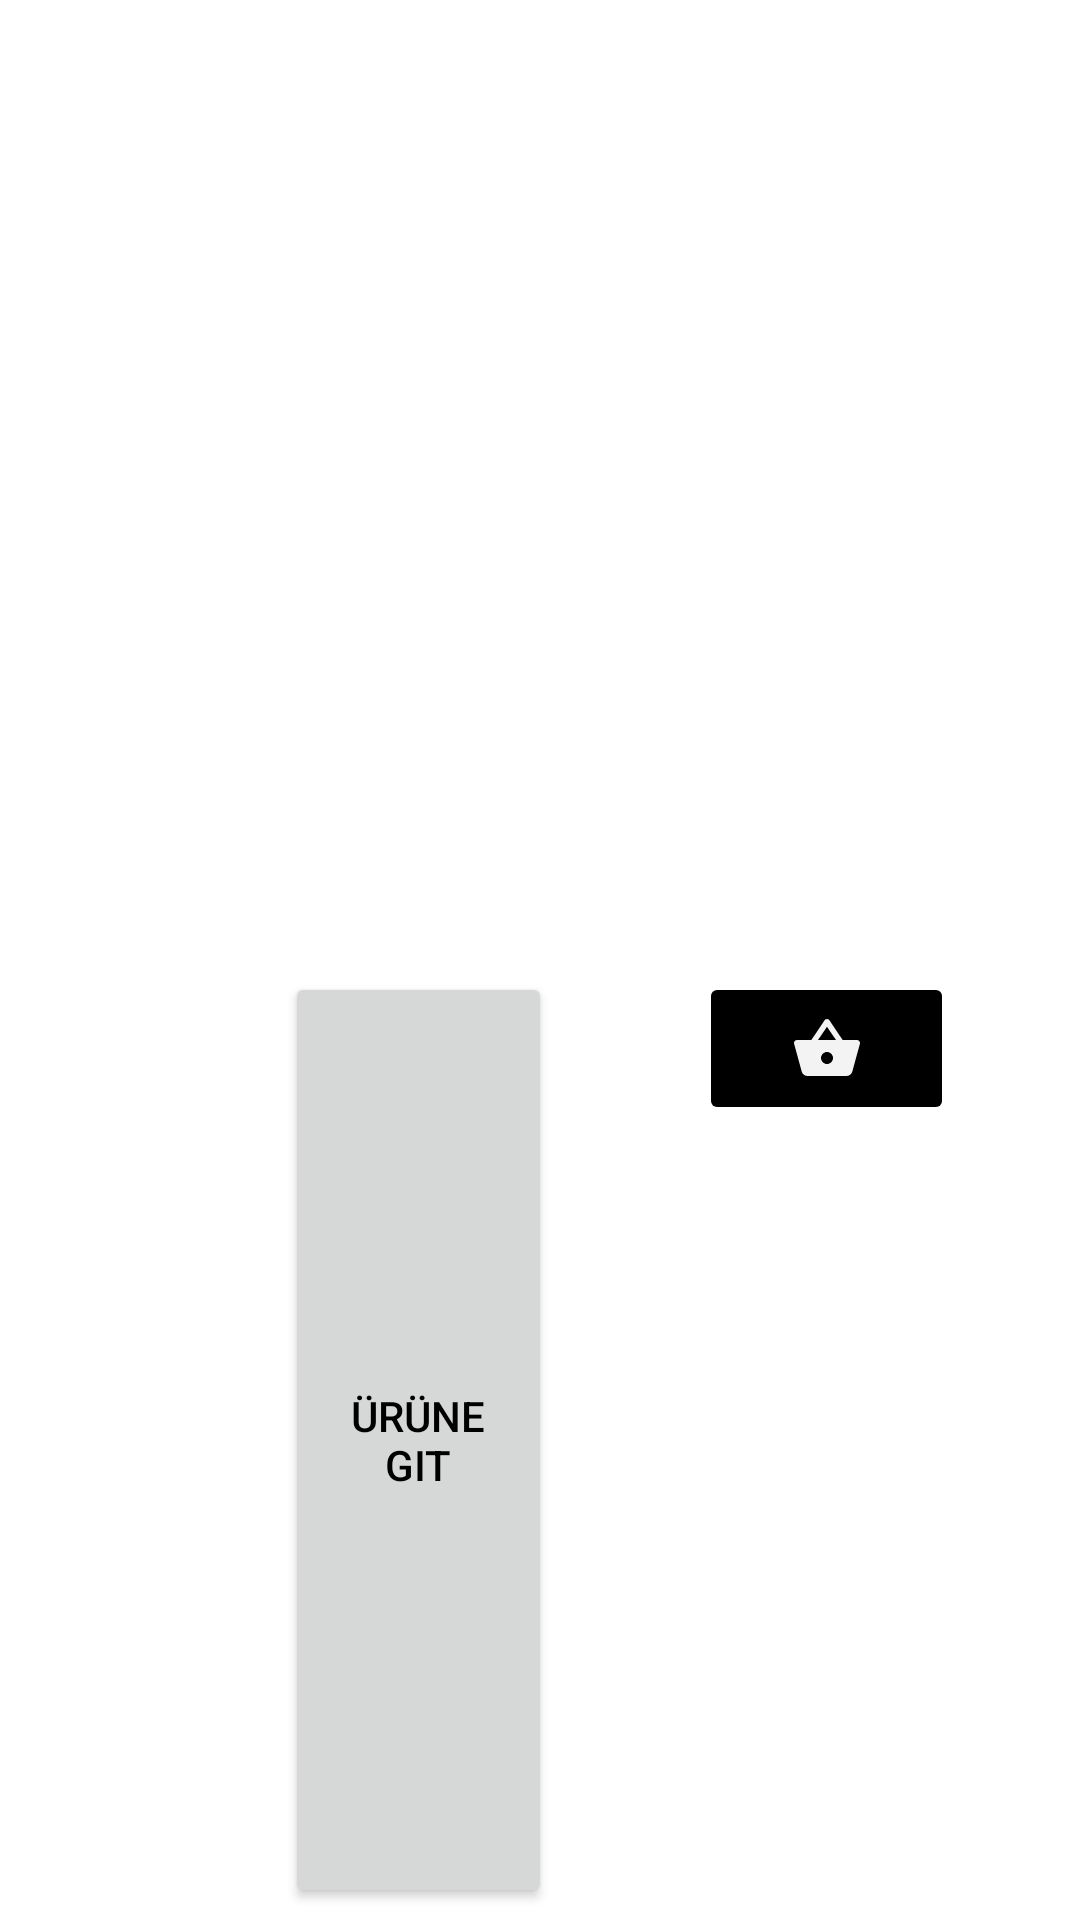

Icons on this 1080 × 1920 Android screen, each with its box as (x1, y1, x2, y2):
shopping basket: (711, 990, 942, 1107)
